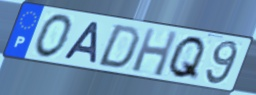9: (204, 39, 240, 87)
A: (61, 20, 101, 65)
D: (95, 23, 143, 70)
H: (130, 26, 180, 79)
O: (32, 13, 75, 60)
Q: (166, 35, 208, 83)
